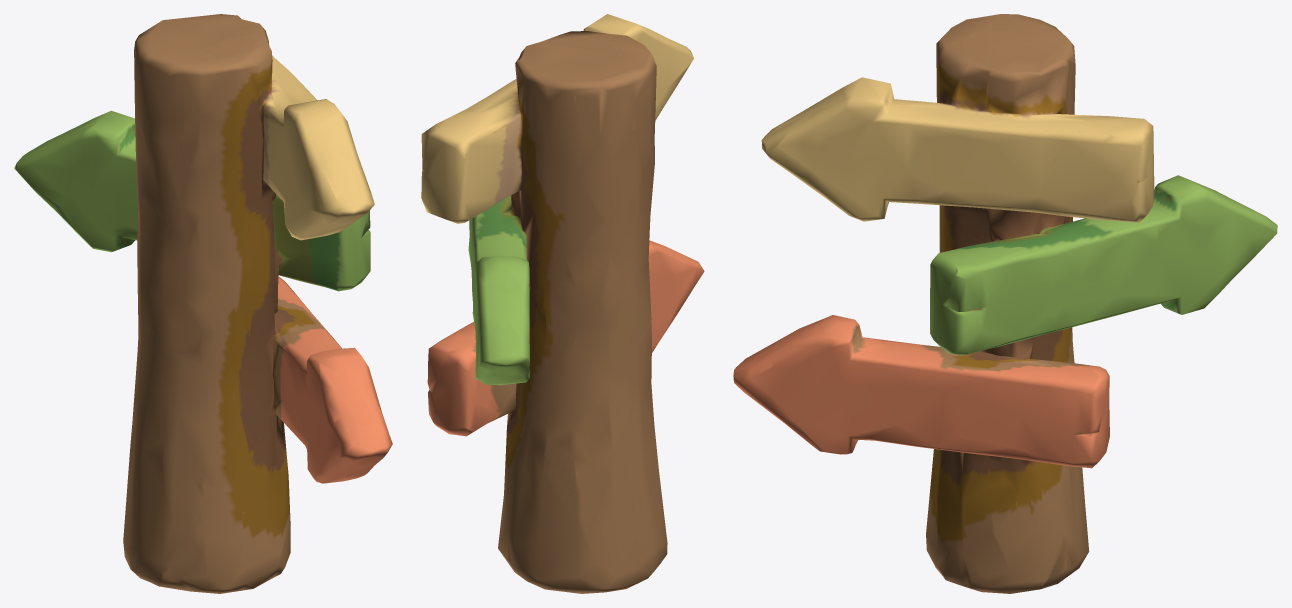
File: signpost.glb
3 renders of one model, left to right at view 1: azimuth 30°, elevation 25°; view 2: azimuth 150°, elevation 25°; view 3: azimuth 270°, elevation 25°, orthographic. The views are drawn at different scales.
Parts seen in each view (by area): view 1: tripo_node_4f1cdfb1-3a70-4e18-90ea-c3ff97644e94; view 2: tripo_node_4f1cdfb1-3a70-4e18-90ea-c3ff97644e94; view 3: tripo_node_4f1cdfb1-3a70-4e18-90ea-c3ff97644e94.
Boxes of the visible parts, x1,y1,x2,y2 form: tripo_node_4f1cdfb1-3a70-4e18-90ea-c3ff97644e94: [14, 14, 392, 593]; tripo_node_4f1cdfb1-3a70-4e18-90ea-c3ff97644e94: [421, 14, 704, 593]; tripo_node_4f1cdfb1-3a70-4e18-90ea-c3ff97644e94: [733, 14, 1277, 593].
Size of the model in its own units: 0.4218 by 1 by 0.9475.
Materials: 1 (1 with a texture image).
